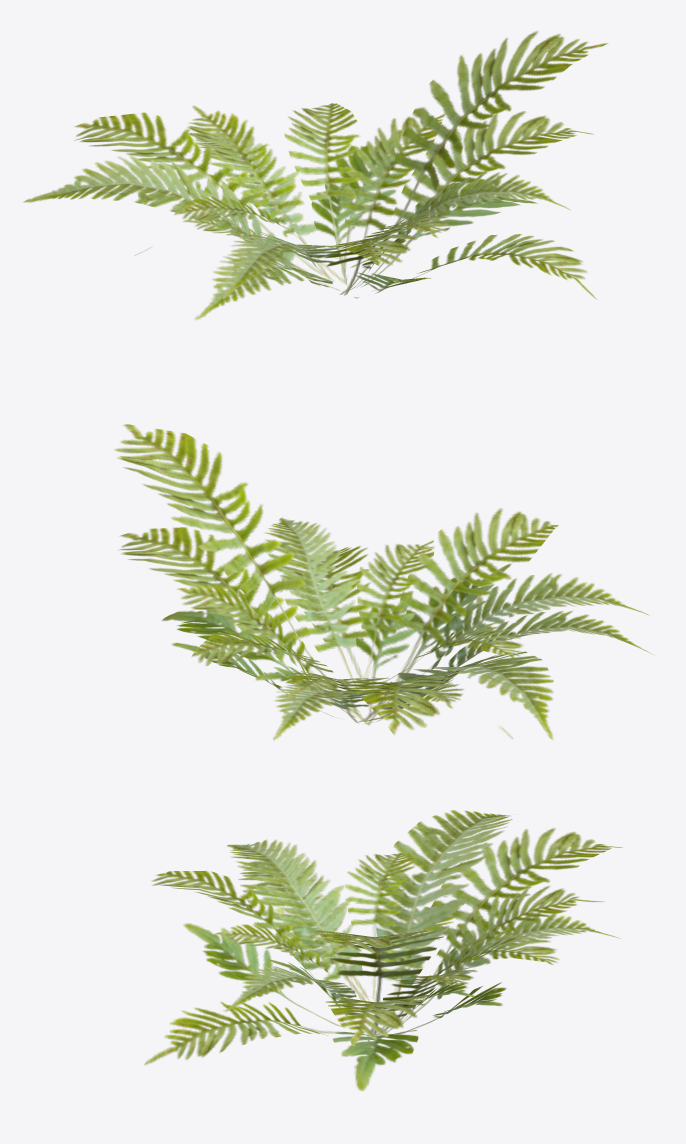
Rendered from n_busch.glb.
The picture shows the model from 3 angles, top to bottom: view 1: azimuth 30°, elevation 25°; view 2: azimuth 150°, elevation 25°; view 3: azimuth 270°, elevation 25°; orthographic projection. The views are drawn at different scales.
Visible parts, largest first — view 1: Plane; view 2: Plane; view 3: Plane.
Part boxes in pixels (bbox=[...]): Plane: bbox=[23, 31, 608, 320]; Plane: bbox=[114, 424, 654, 740]; Plane: bbox=[144, 810, 622, 1091].
Size of the model in its own units: 1180 by 399 by 1128.
Materials: 1 (1 with a texture image).
